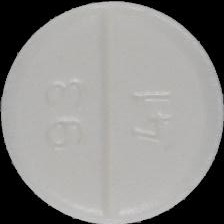0093-0041: (0, 0, 224, 224)
